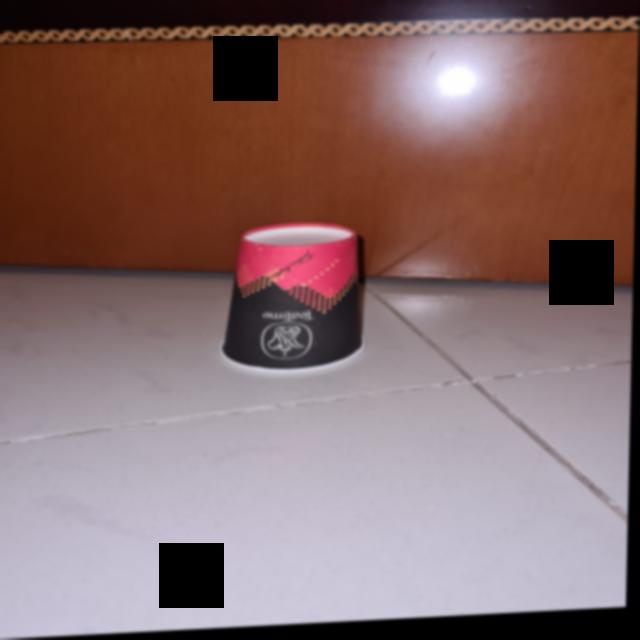cups: (221, 224, 366, 378)
